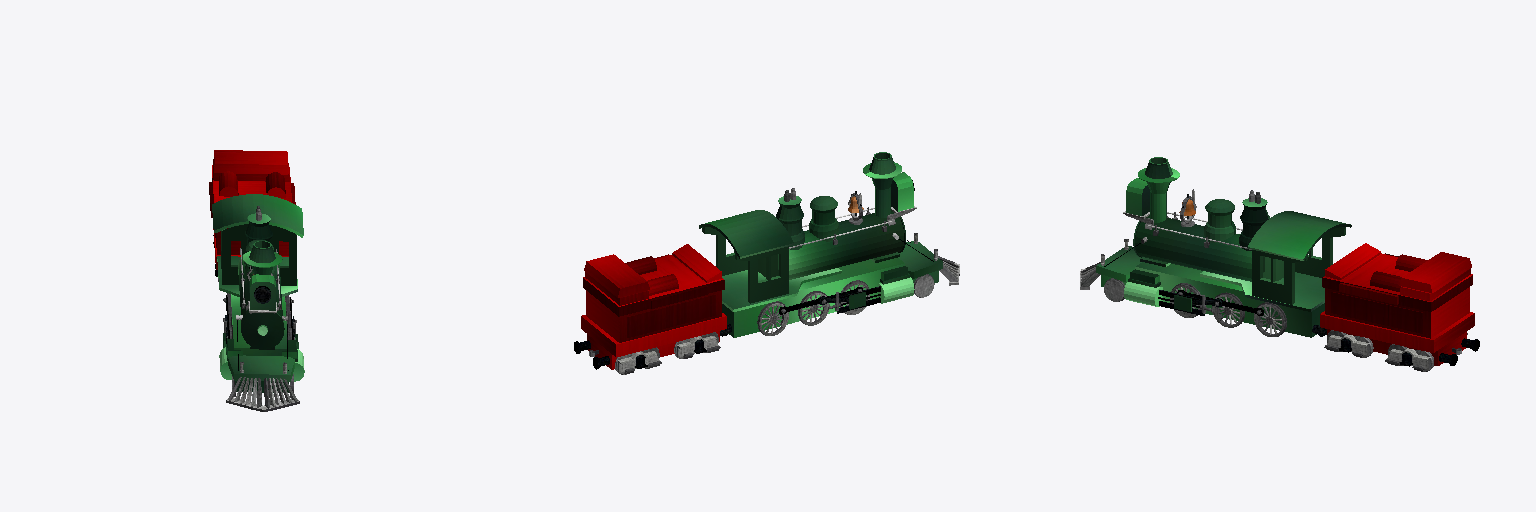
The picture shows the model from 3 angles: view 1: azimuth 30°, elevation 25°; view 2: azimuth 150°, elevation 25°; view 3: azimuth 270°, elevation 25°; orthographic projection.
Visible parts, largest first — view 1: TrenDecorativo; view 2: TrenDecorativo; view 3: TrenDecorativo.
Part boxes in pixels (bbox=[...]): TrenDecorativo: bbox=[209, 150, 304, 411]; TrenDecorativo: bbox=[574, 152, 959, 374]; TrenDecorativo: bbox=[1080, 157, 1479, 371].
Size of the model in its own units: 56.79 by 33.82 by 89.16.
7 materials, 6 textured.